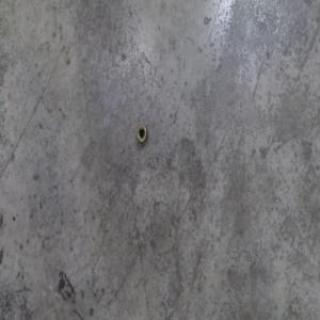Nuttrack_idkeyframe: (135, 122, 147, 144)
